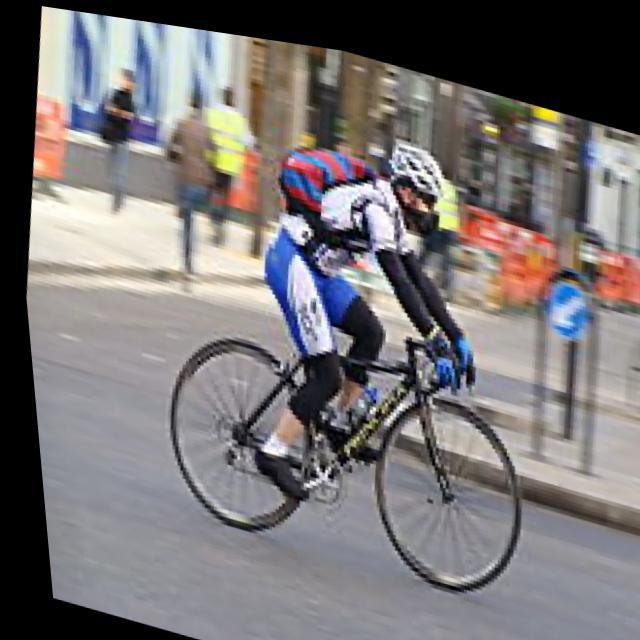Helmet: (378, 128, 453, 248)
